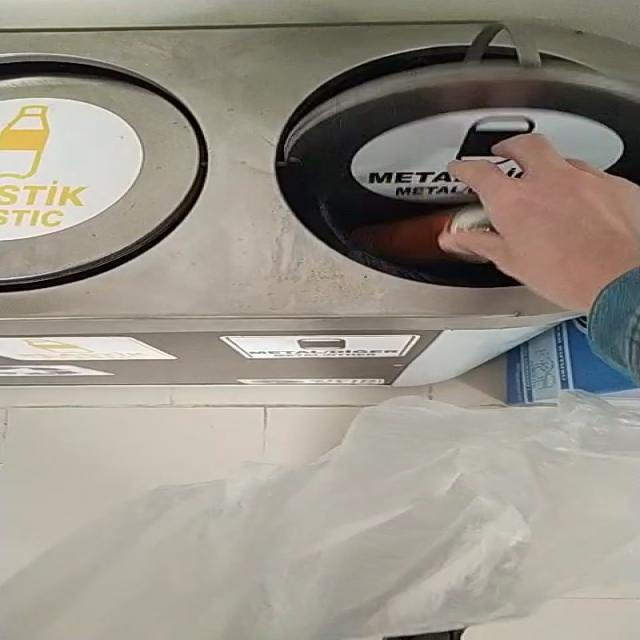Bin: (1, 20, 640, 386)
Metal: (351, 204, 495, 263)
